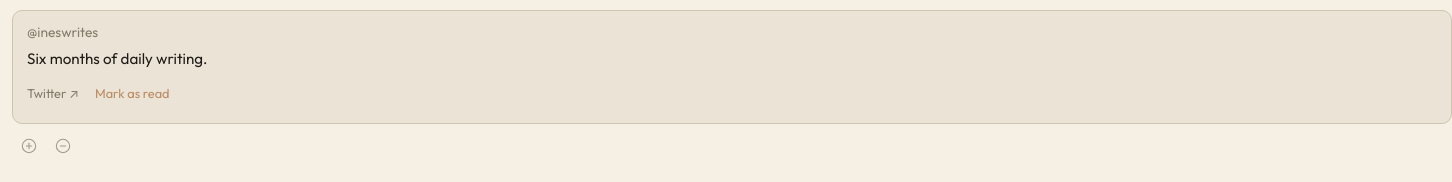
Test case: the pick's verdicts tell the page, and the tweet's marks it read
The width and height of the screenshot is (1452, 182).
Click the button named "Bad pick": (63, 146) [46,126,80,166]
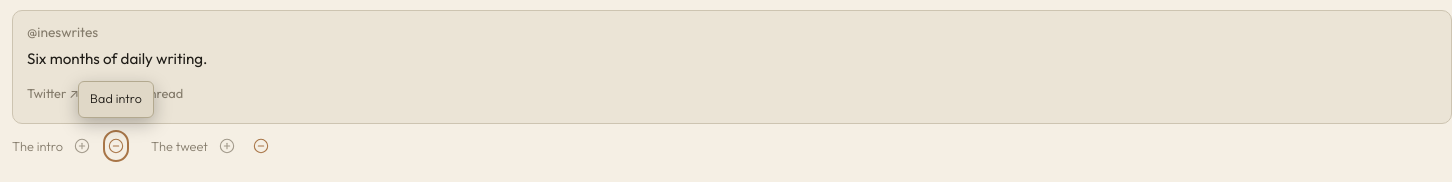
expect the button "Mark as unread" is shown: met, box [95,85,183,101]
